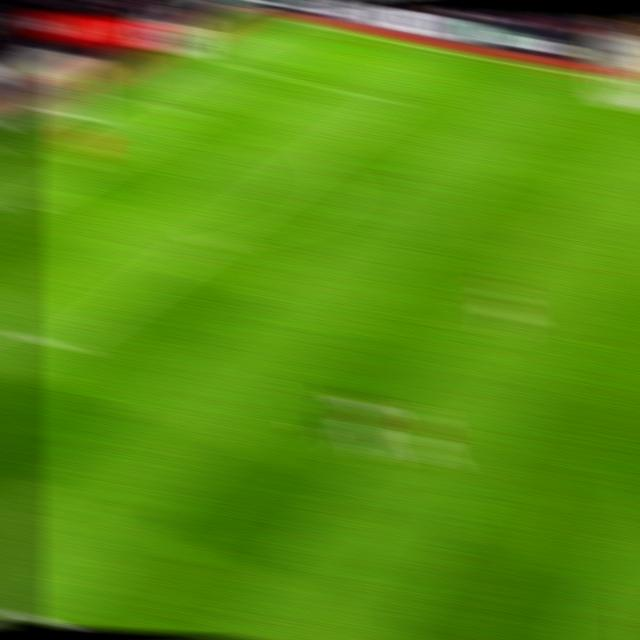bigarea_bottom_inner: (43, 332, 84, 364)
bigarea_top_inner: (375, 89, 412, 121)
bigarea_top_outter: (4, 192, 41, 222), (194, 55, 225, 68)
bottom_arc_area_intersection: (188, 227, 229, 259)
corner: (273, 15, 308, 27)
smallarea_top_inner: (172, 102, 208, 130)
smallarea_top_outter: (112, 89, 147, 106)
top_arc_area_intersection: (305, 142, 339, 174)
